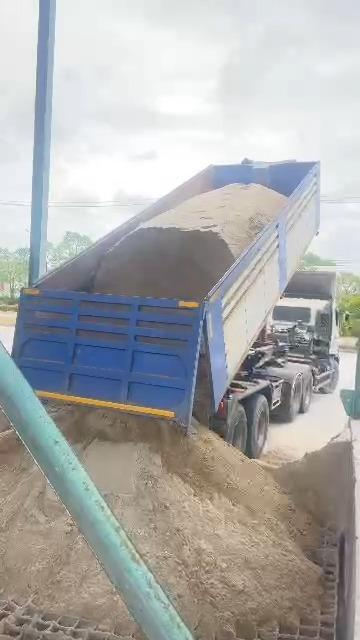sand: (55, 408, 321, 639), (67, 410, 320, 639), (0, 442, 140, 636), (89, 184, 287, 300), (89, 184, 286, 299), (92, 185, 285, 298), (260, 432, 352, 520), (194, 356, 210, 423), (0, 410, 9, 433), (58, 411, 70, 426)
